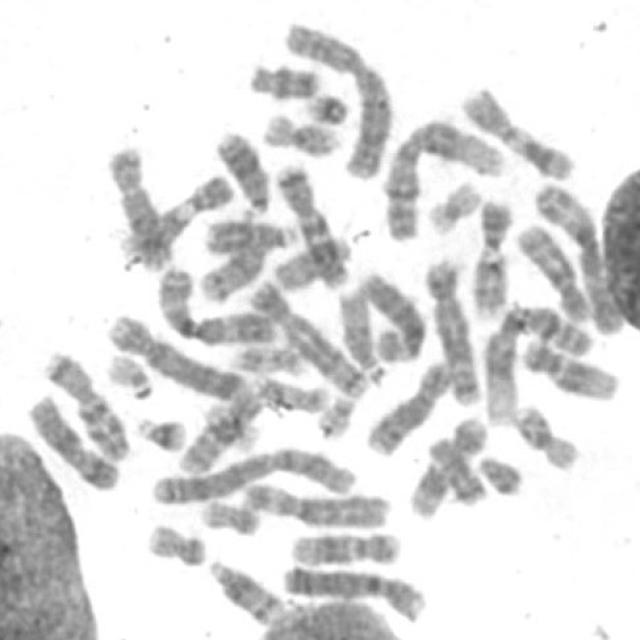A1: (375, 109, 507, 243), (476, 294, 596, 428)
A2: (276, 12, 396, 181), (144, 438, 358, 506)
A3: (527, 173, 626, 335), (149, 257, 281, 347)
B4: (100, 305, 251, 405), (272, 556, 430, 624)
B5: (240, 272, 372, 400), (417, 247, 485, 408)
C10: (509, 215, 594, 323), (171, 386, 264, 476)
C11: (452, 78, 578, 182), (401, 409, 490, 520)
C12: (514, 330, 622, 402), (281, 522, 405, 568)
C6: (234, 472, 394, 530), (352, 263, 430, 364)
C7: (34, 339, 133, 462), (267, 153, 352, 290)
C8: (99, 136, 174, 272), (357, 354, 456, 456)
C9: (113, 165, 235, 264), (464, 190, 516, 319)
D13: (208, 120, 273, 216), (197, 212, 308, 258)
D14: (200, 550, 285, 627), (192, 226, 272, 304)
D15: (330, 282, 389, 384), (266, 227, 354, 292)
E16: (506, 394, 582, 472), (255, 104, 343, 158)
E17: (245, 366, 331, 414), (224, 336, 308, 378)
E18: (422, 430, 490, 508), (239, 52, 325, 102)
F19: (418, 170, 484, 236), (197, 394, 263, 454)
F20: (139, 514, 209, 568), (193, 490, 264, 536)
G21: (129, 406, 189, 454), (297, 82, 354, 126)
G22: (99, 343, 158, 400), (309, 385, 360, 441)
X: (20, 386, 124, 492)
Y: (469, 444, 526, 498)
